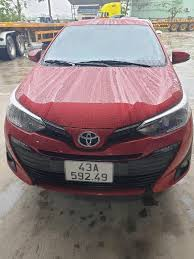number-plate: (64, 159, 112, 182)
